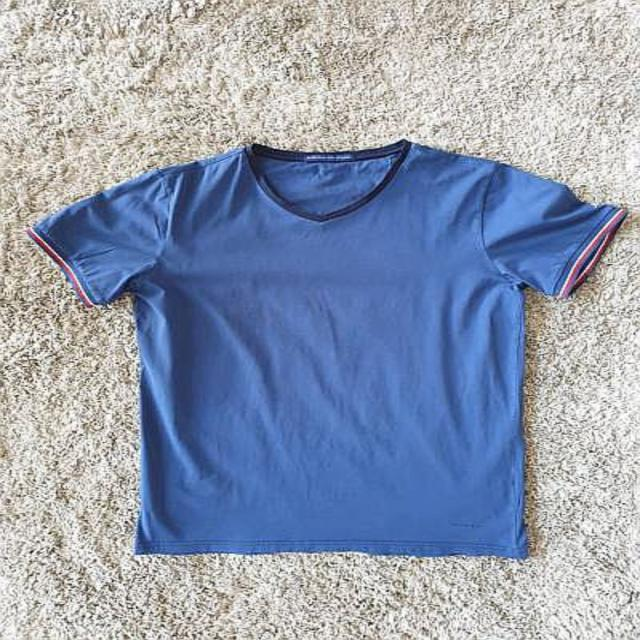T_SHIRT: (14, 129, 630, 566)
